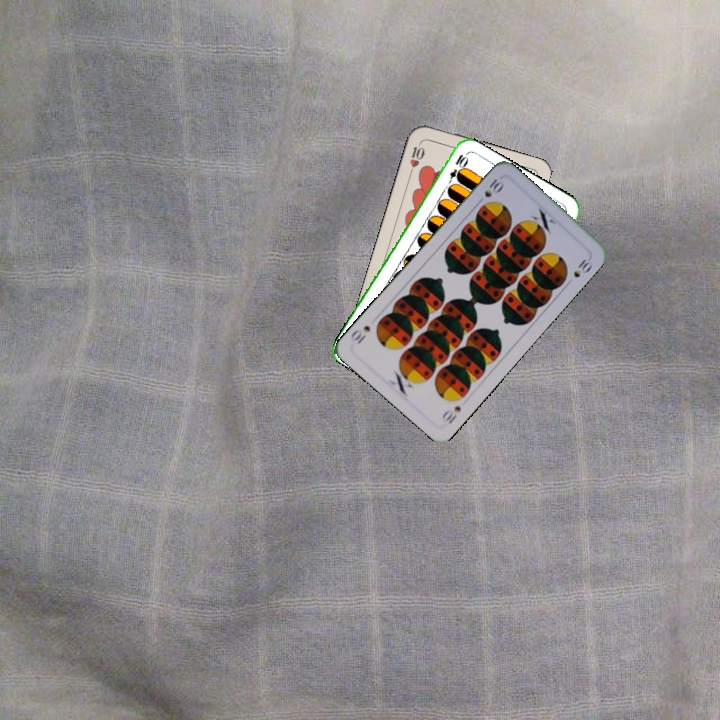E10: (443, 150, 468, 189)
H10: (406, 137, 427, 177)
S10: (473, 175, 506, 207), (438, 402, 464, 427)
